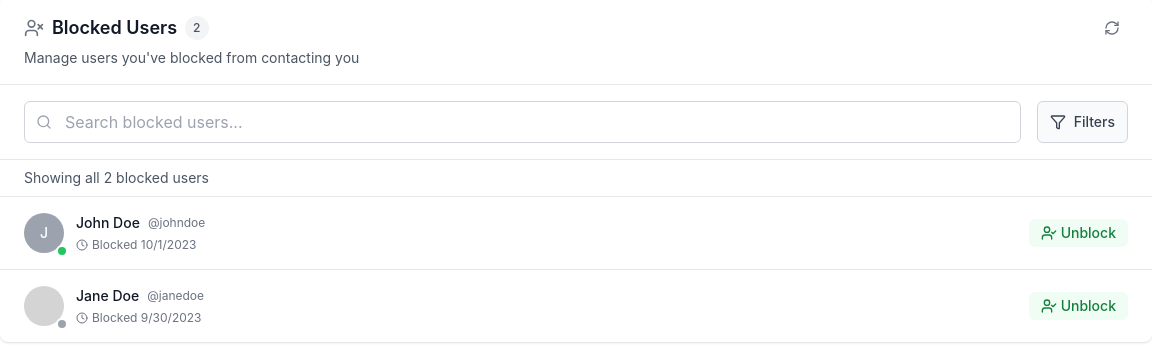
Test: BlockedUsersManager › filters users by search query
Step 1. Type "john" into the field with placeholder "Search blocked users..." → (522, 122), box [24, 101, 1021, 143]
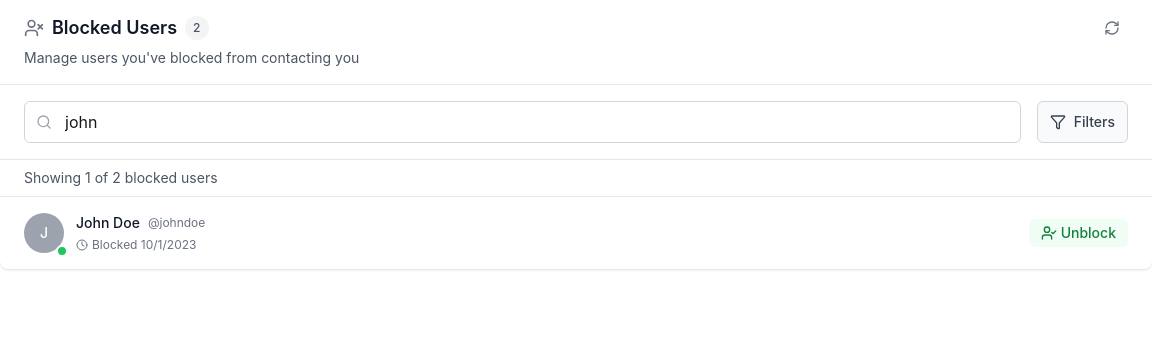
Expected: the text "John Doe" is shown, [76, 213, 140, 233]
Now the text "Jane Doe" is gone
